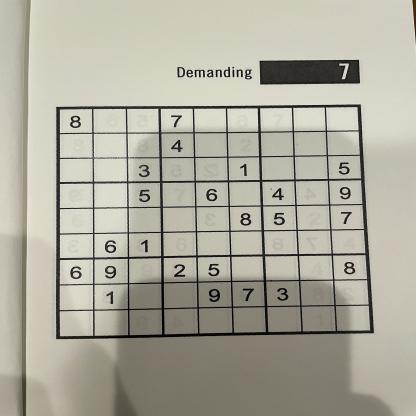sudoku: (50, 100, 379, 345)
